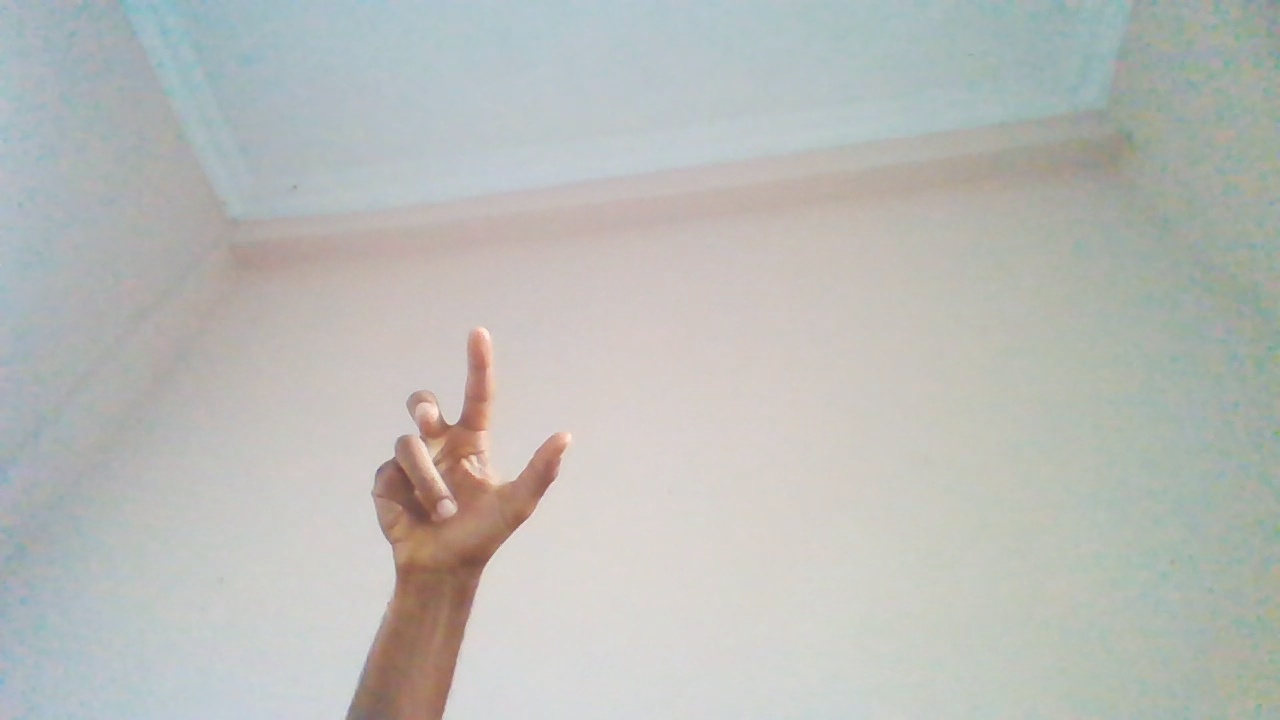hhe: (370, 326, 578, 677)
